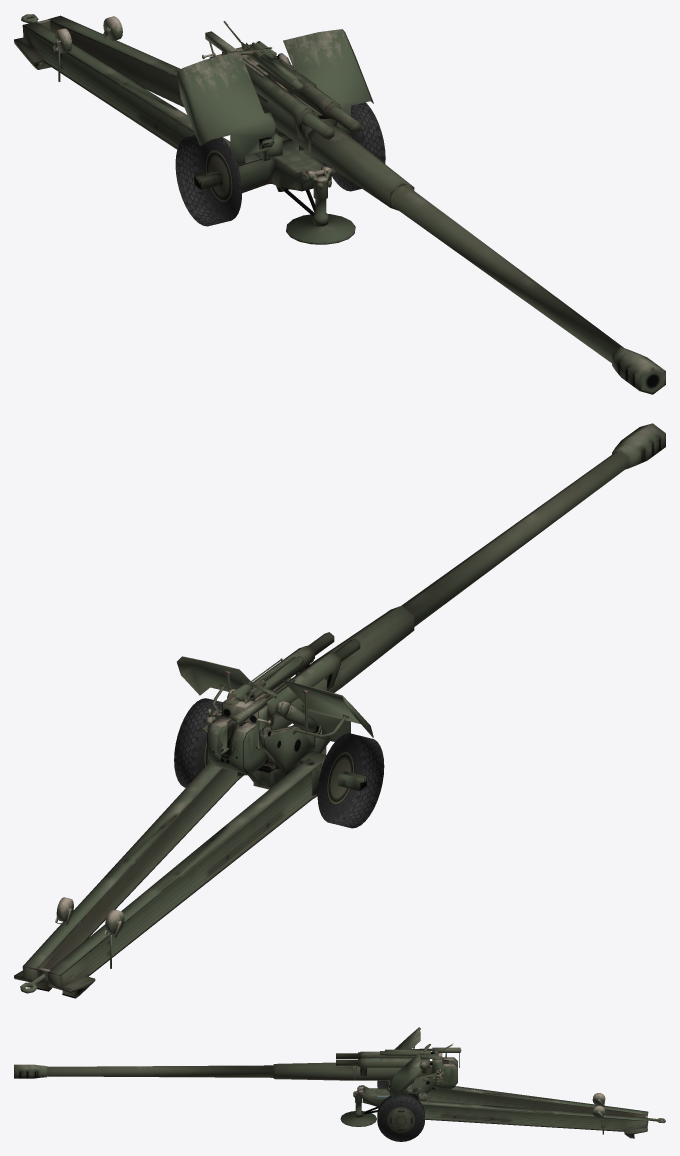
The model's file is howitzer_2a65_msta.glb.
The picture shows the model from 3 angles, top to bottom: view 1: azimuth 30°, elevation 25°; view 2: azimuth 150°, elevation 25°; view 3: azimuth 270°, elevation 25°; orthographic projection. The views are drawn at different scales.
Visible parts, largest first — view 1: 2A65; view 2: 2A65; view 3: 2A65.
Boxes of the visible parts, x1,y1,x2,y2 form: 2A65: (14, 14, 665, 394); 2A65: (14, 423, 665, 998); 2A65: (14, 1027, 665, 1141).
Bounding box in the file's own units: 3.02 × 2.82 × 18.78.
Materials: 1 (1 with a texture image).
